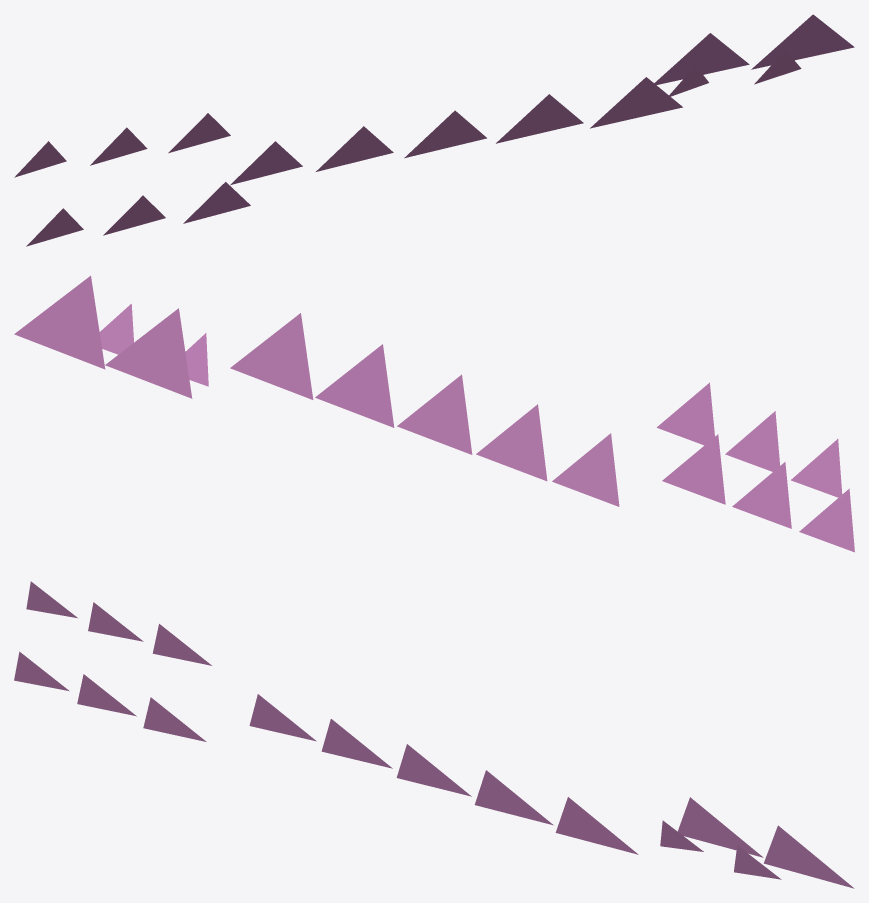
Rendered from prop_bulk_gen_0959_lod2.gltf.
3 views of the same model, one above another, from view 1: azimuth 30°, elevation 25°; view 2: azimuth 150°, elevation 25°; view 3: azimuth 330°, elevation 25° (orthographic). The views are drawn at different scales.
Visible parts, largest first — view 1: prop_bulk_gen_0959_lod2; view 2: prop_bulk_gen_0959_lod2; view 3: prop_bulk_gen_0959_lod2.
Boxes of the visible parts, x1,y1,x2,y2 form: prop_bulk_gen_0959_lod2: (14,14,854,246); prop_bulk_gen_0959_lod2: (14,275,854,552); prop_bulk_gen_0959_lod2: (14,581,854,888).
Bounding box in the file's own units: 0.7137 × 0.0912 × 0.0817.
